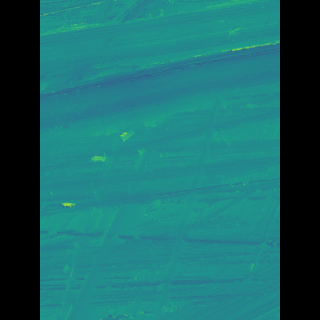Loch: (69, 0, 250, 133)
